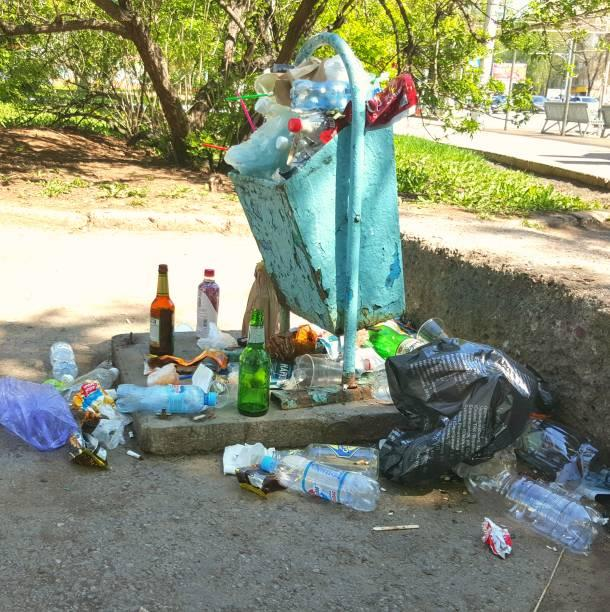trash: (1, 219, 610, 549), (204, 28, 409, 192), (373, 318, 542, 482), (0, 334, 138, 474), (463, 434, 601, 547), (224, 429, 385, 517), (509, 399, 610, 502), (342, 319, 451, 408), (112, 344, 222, 419), (276, 308, 345, 410), (230, 289, 284, 416), (116, 271, 188, 362), (191, 258, 225, 351)
trash_can_overflow: (172, 7, 515, 521)
